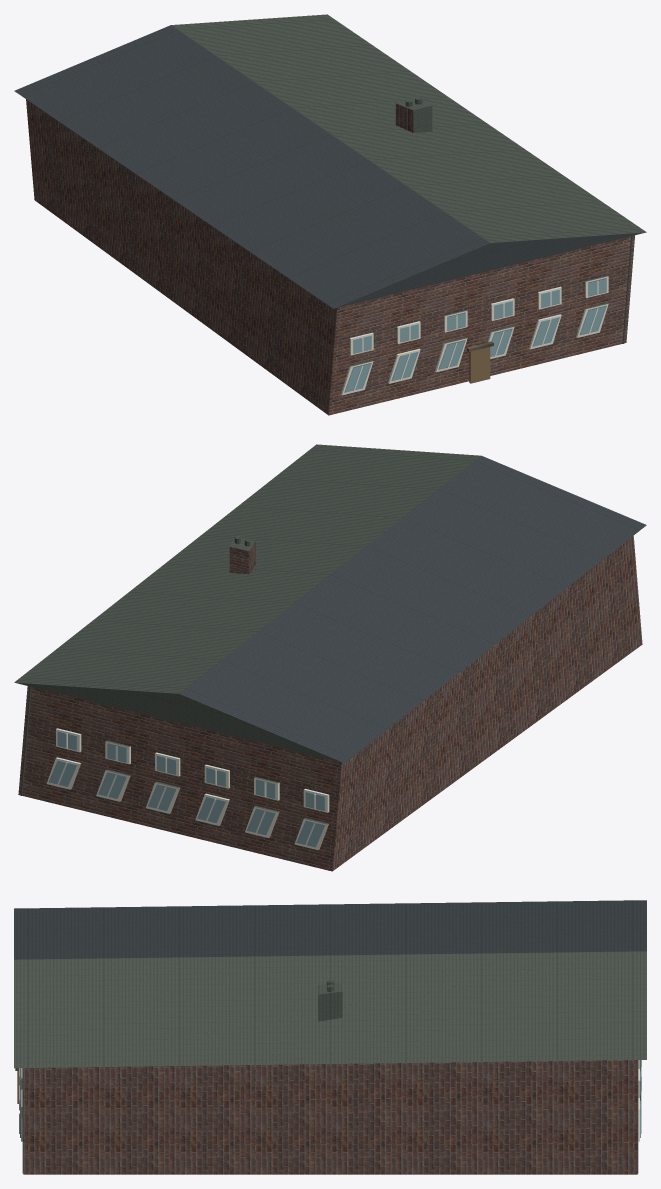
Rendered from damaged2.gltf.
3 renders of one model, top to bottom at view 1: azimuth 30°, elevation 25°; view 2: azimuth 150°, elevation 25°; view 3: azimuth 270°, elevation 25°, orthographic. The views are drawn at different scales.
Parts seen in each view (by area): view 1: britainwarehouse_damaged2; view 2: britainwarehouse_damaged2; view 3: britainwarehouse_damaged2.
Part boxes in pixels (left/top/right/bottom): britainwarehouse_damaged2: left=14, top=14, right=646, bottom=415; britainwarehouse_damaged2: left=14, top=444, right=646, bottom=871; britainwarehouse_damaged2: left=14, top=900, right=646, bottom=1174.
Bounding box in the file's own units: 42.08 × 18.44 × 67.
8 materials, 5 textured.
